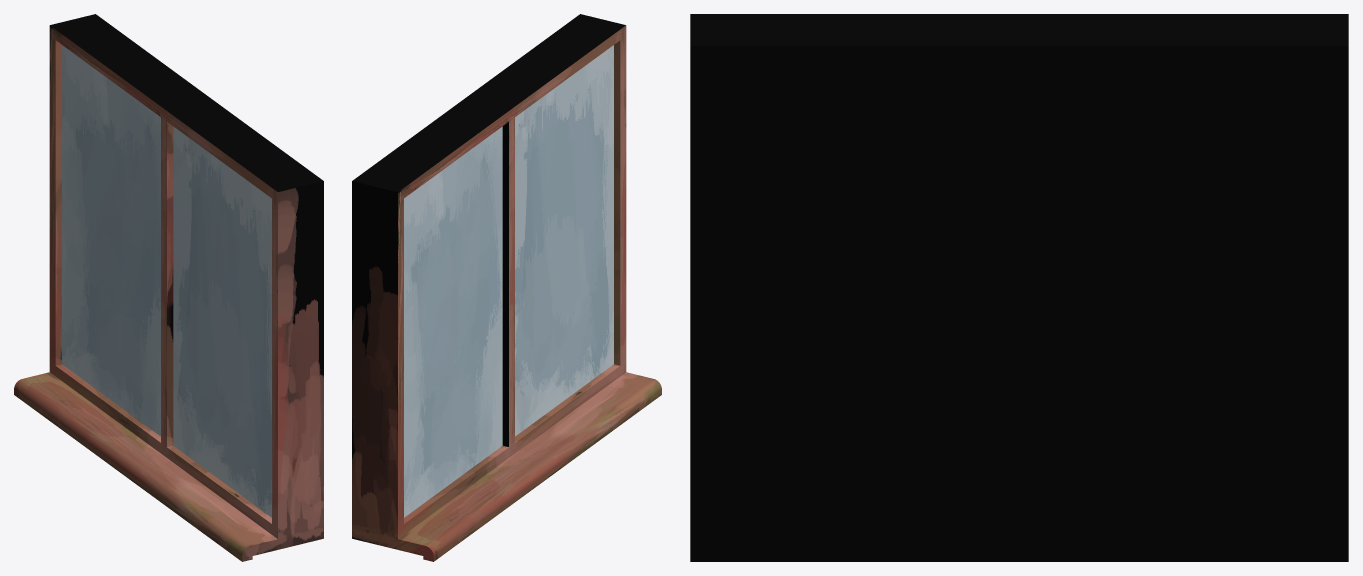
File: window.fbx
3 renders of one model, left to right at view 1: azimuth 30°, elevation 25°; view 2: azimuth 150°, elevation 25°; view 3: azimuth 270°, elevation 25°, orthographic. The views are drawn at different scales.
Visible parts, largest first — view 1: Cube.011; view 2: Cube.011; view 3: Cube.011.
Part boxes in pixels (x1,y1,x2,y2): Cube.011: [14, 14, 323, 561]; Cube.011: [352, 14, 661, 561]; Cube.011: [690, 14, 1348, 561].
Size of the model in its own units: 32 by 135 by 155.
